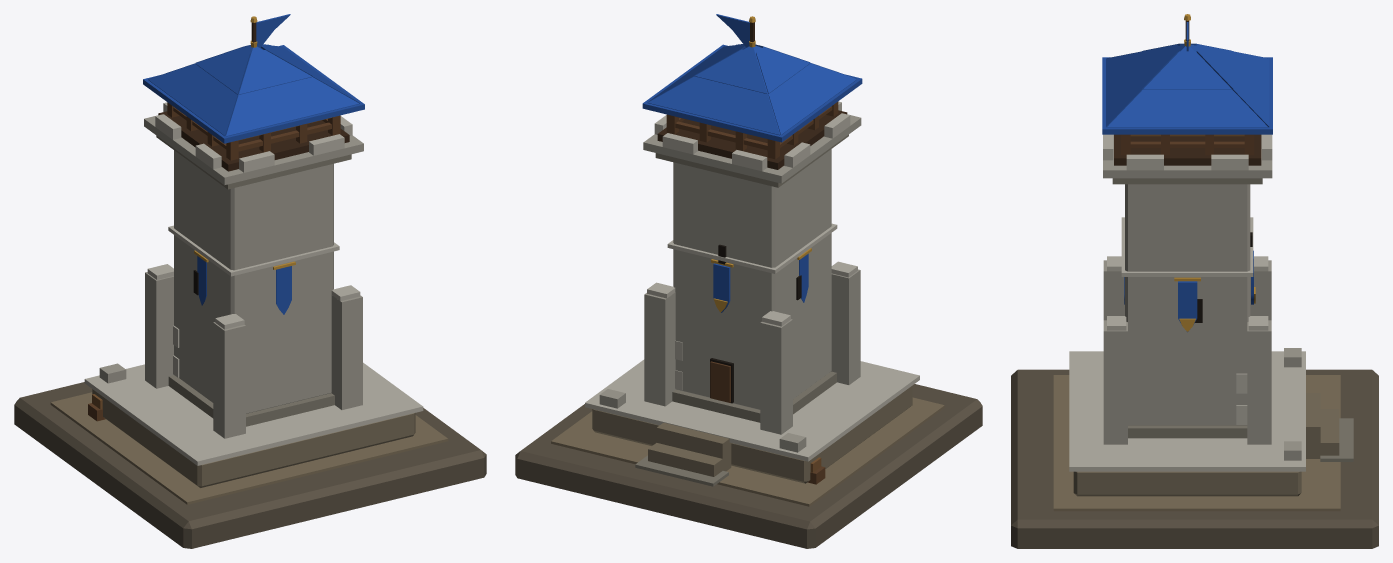
The picture shows the model from 3 angles, left to right: view 1: azimuth 30°, elevation 25°; view 2: azimuth 150°, elevation 25°; view 3: azimuth 270°, elevation 25°; orthographic projection. The views are drawn at different scales.
Parts seen in each view (by area): view 1: 哨塔_3星; view 2: 哨塔_3星; view 3: 哨塔_3星.
Boxes of the visible parts, <box> form: 哨塔_3星: <box>14,14,486,548</box>; 哨塔_3星: <box>515,14,982,548</box>; 哨塔_3星: <box>1011,14,1378,548</box>.
Bounding box in the file's own units: 1 × 1.37 × 1.
